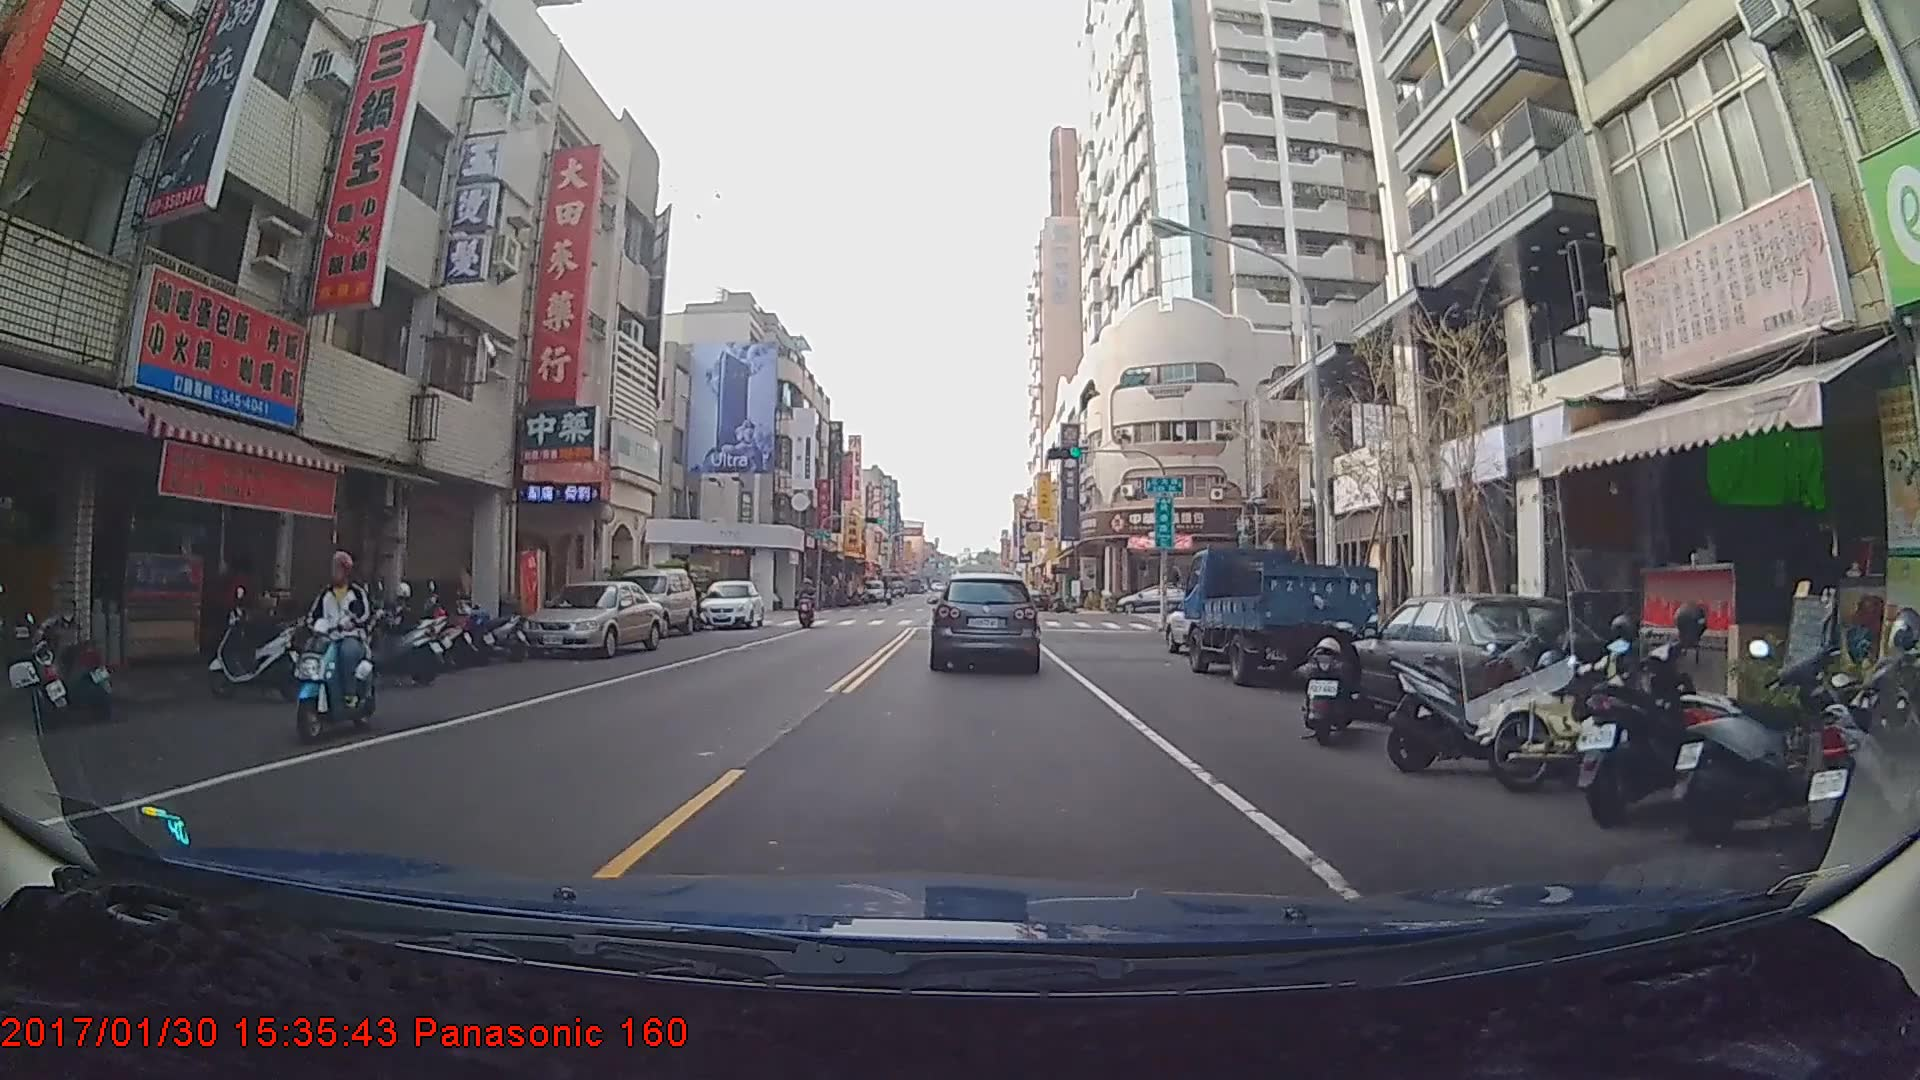rider: (286, 545, 385, 741), (796, 578, 819, 626)
vehicle: (1181, 546, 1381, 685), (516, 577, 661, 657), (931, 570, 1039, 672), (604, 562, 698, 637), (698, 578, 765, 630), (1116, 580, 1192, 612), (860, 577, 885, 600)
